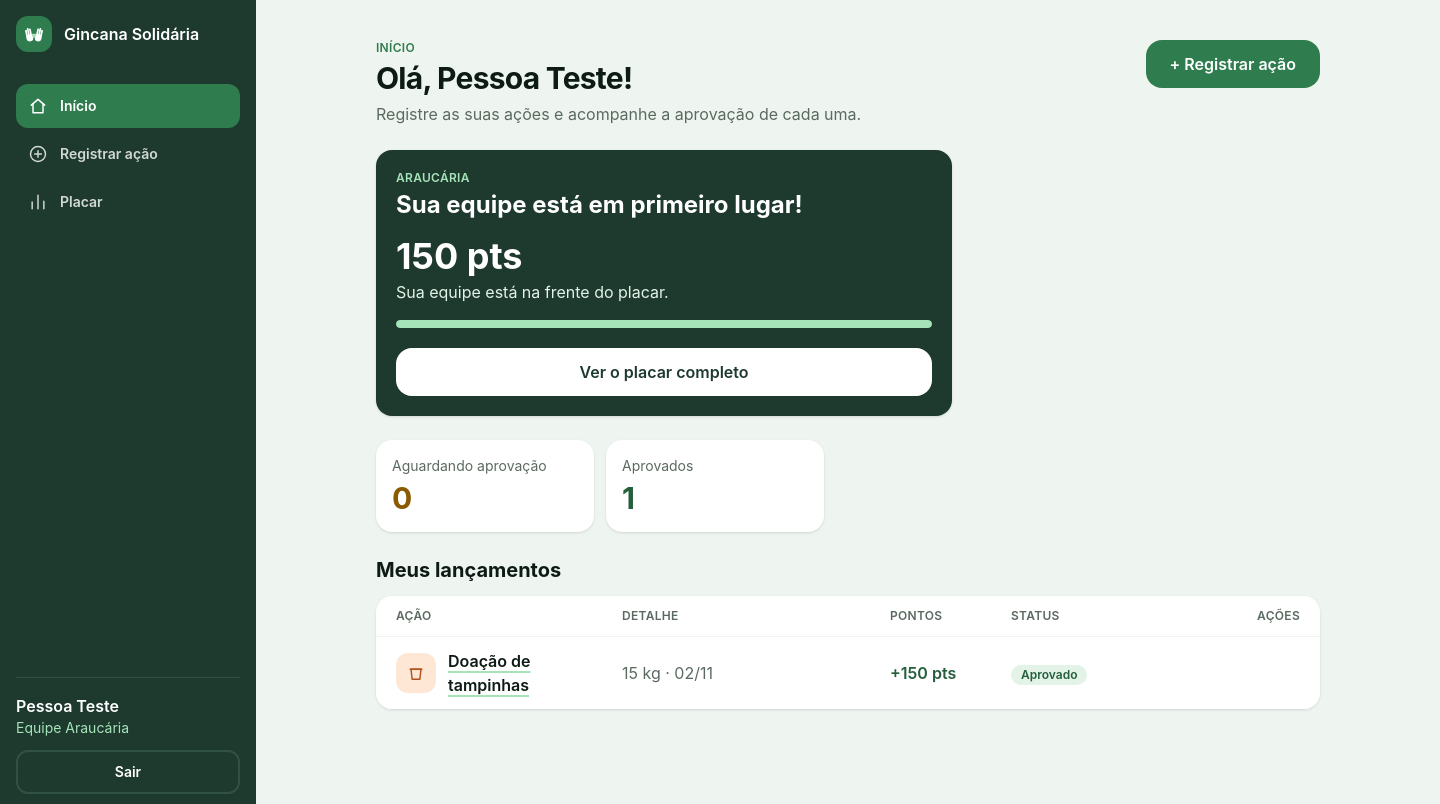
Test: Detalhe do lançamento e histórico (US09) › quem chega e de onde › o colaborador abre pelo nome da ação, na lista do início, e volta para ela
Click the link with aria-label "Doação de tampinhas, ver detalhes e histórico" at [489, 672], box [448,650,530,694]
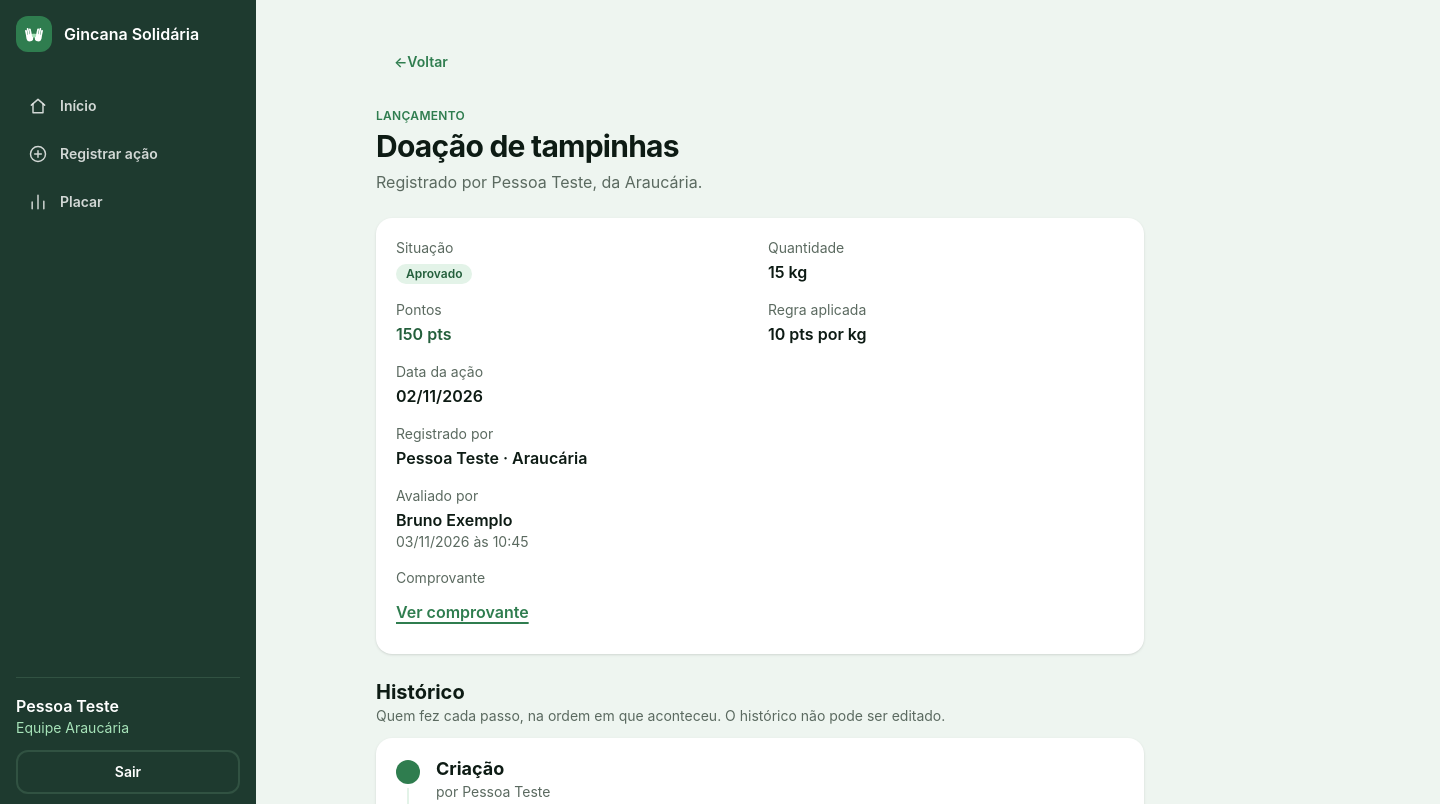
Check: the heading "Doação de tampinhas" is shown, box [376,128,702,166]
Click the button "← Voltar" at [421, 62], box [376,40,466,84]
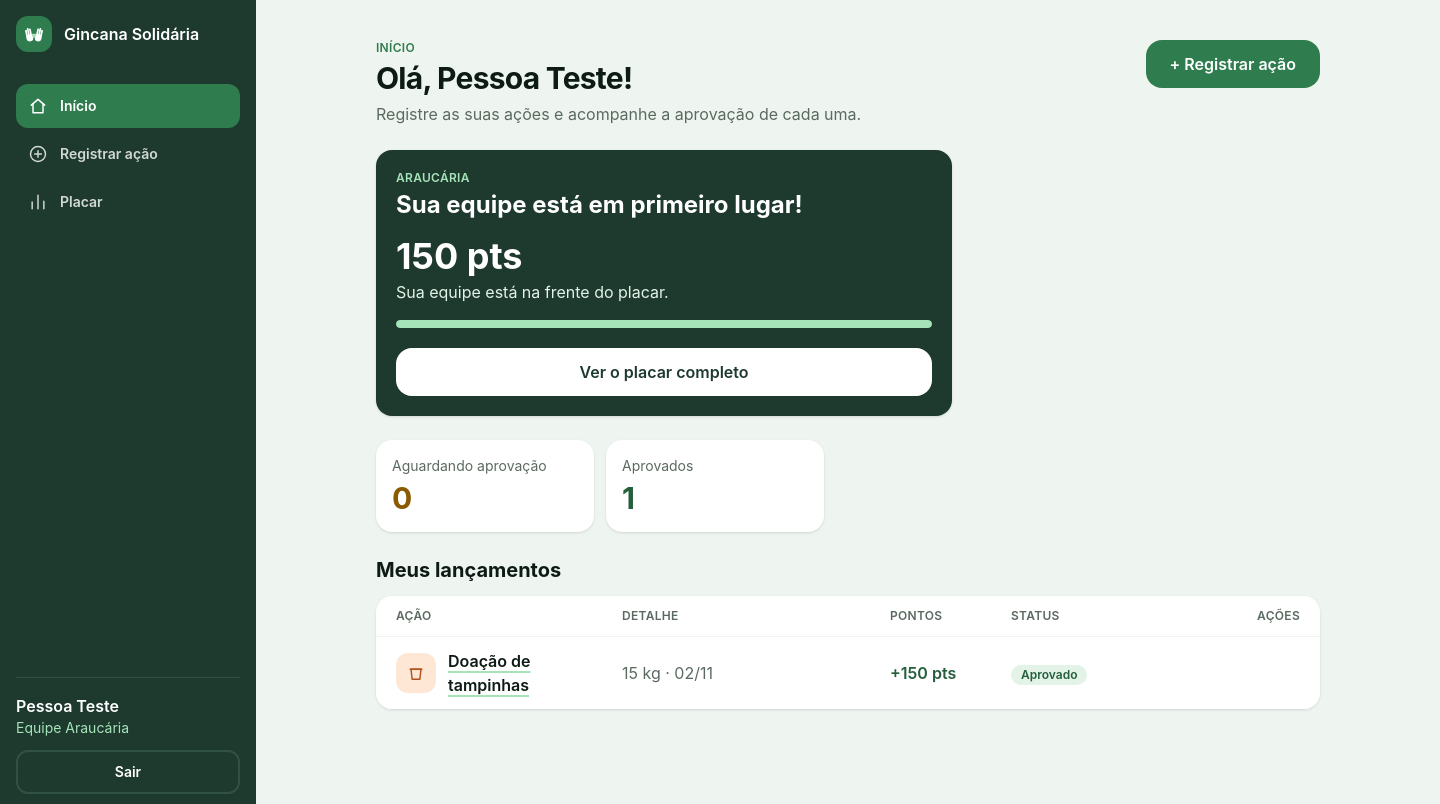
Check: the heading "Olá, Pessoa Teste!" is shown, box [376,60,632,96]
